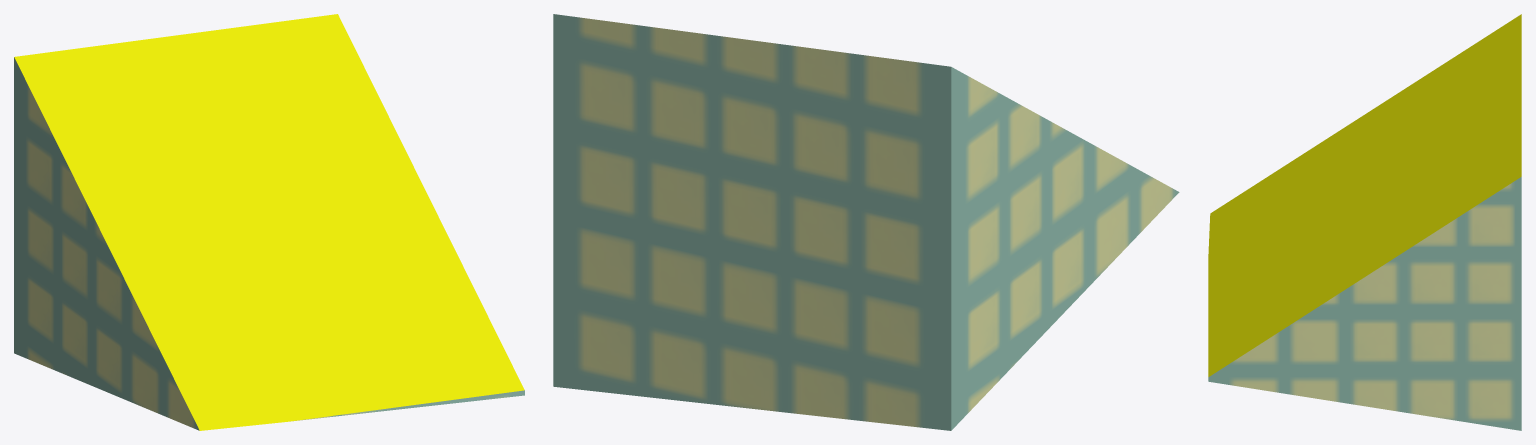
The model's file is c1Shard4.fbx.
The picture shows the model from 3 angles, left to right: view 1: azimuth 30°, elevation 25°; view 2: azimuth 150°, elevation 25°; view 3: azimuth 270°, elevation 25°; orthographic projection. The views are drawn at different scales.
Visible parts, largest first — view 1: shard54; view 2: shard54; view 3: shard54.
Part boxes in pixels (x1,y1,x2,y2): shard54: (14,14,524,430); shard54: (553,14,1179,430); shard54: (1208,14,1521,430).
Size of the model in its own units: 0.0917 by 0.0918 by 0.0917.
2 materials, 1 textured.
